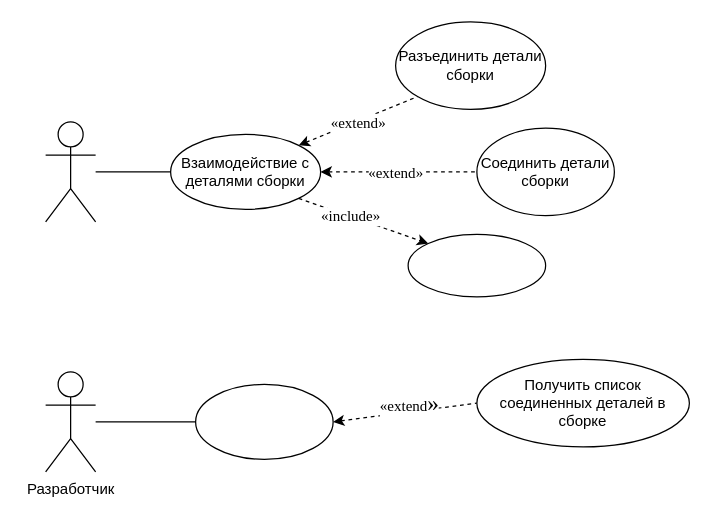
The diagram is 711 pixels wide and 520 high, and some of its shapes have lost their labels. Here are the shapes that lost their labels. From the top down, the box of each, then its label:
(44, 121, 96, 222): Пользователь
(407, 233, 546, 297): Перемещение деталей сборки
(194, 383, 333, 459): Отслеживать прогресс сборки
